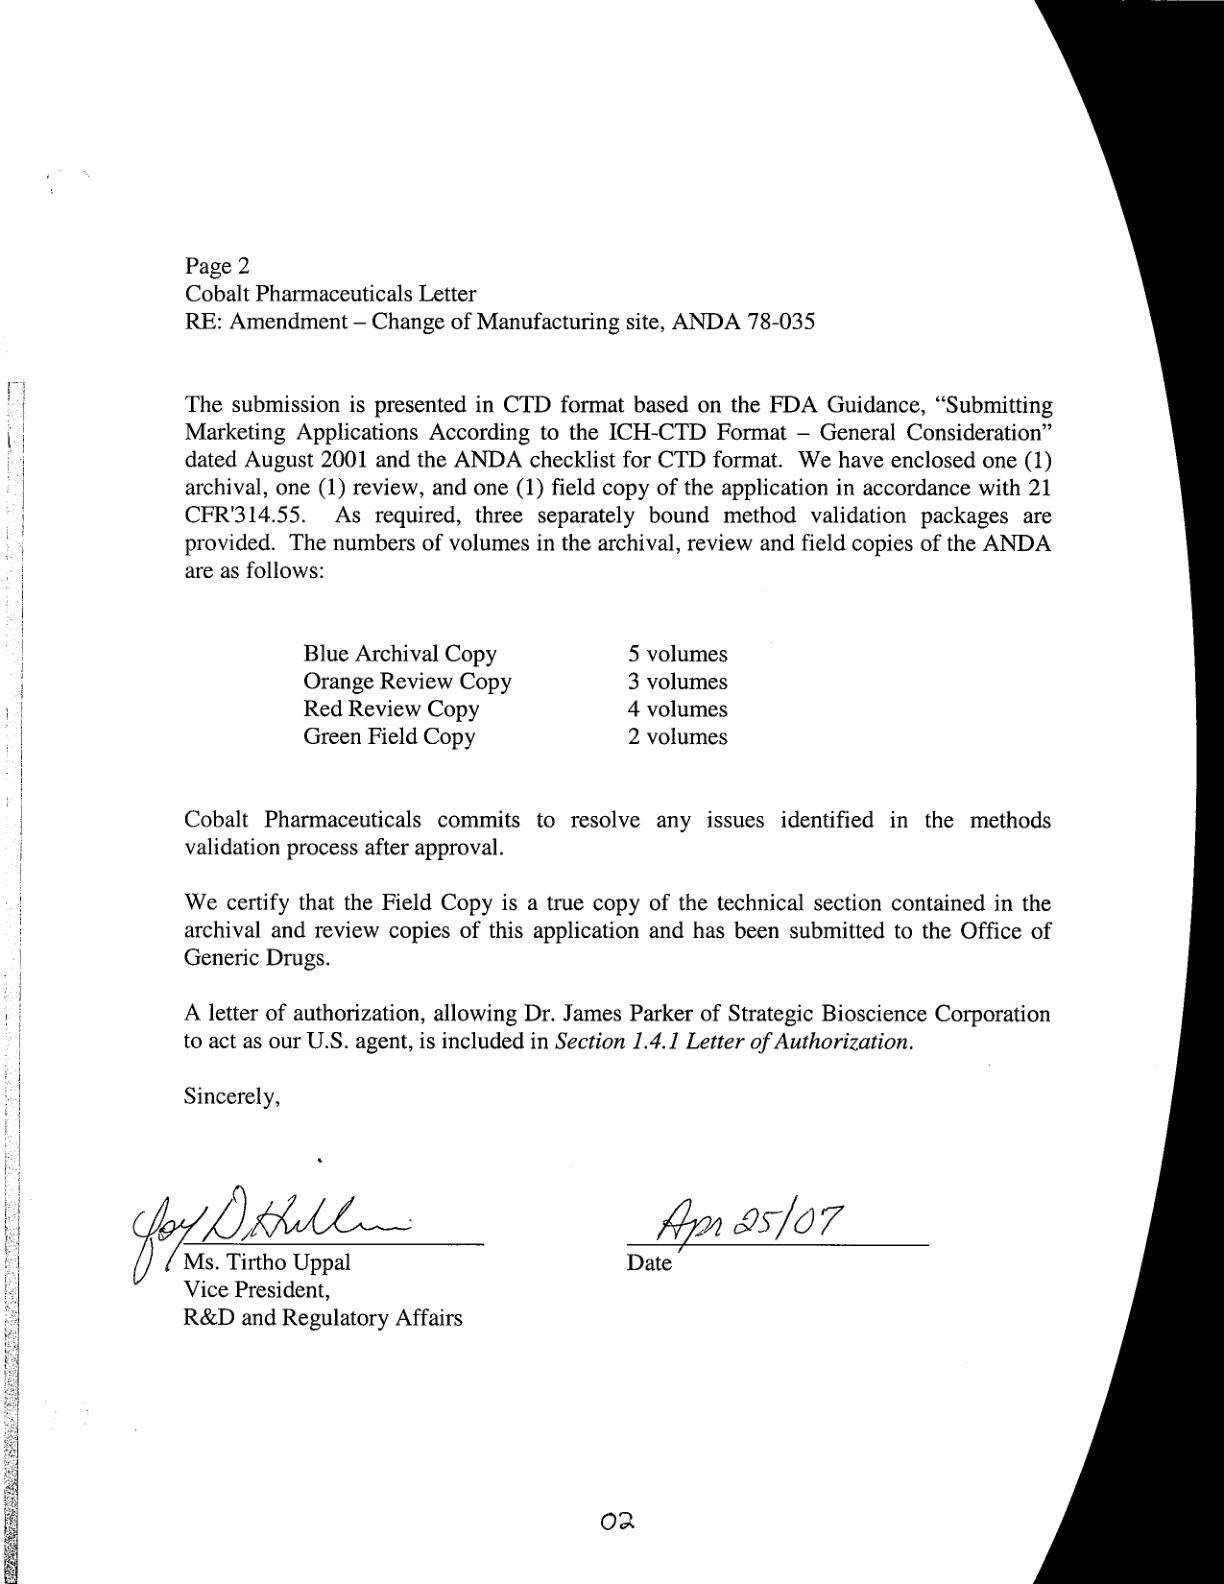nolines: (300, 639, 733, 750)
